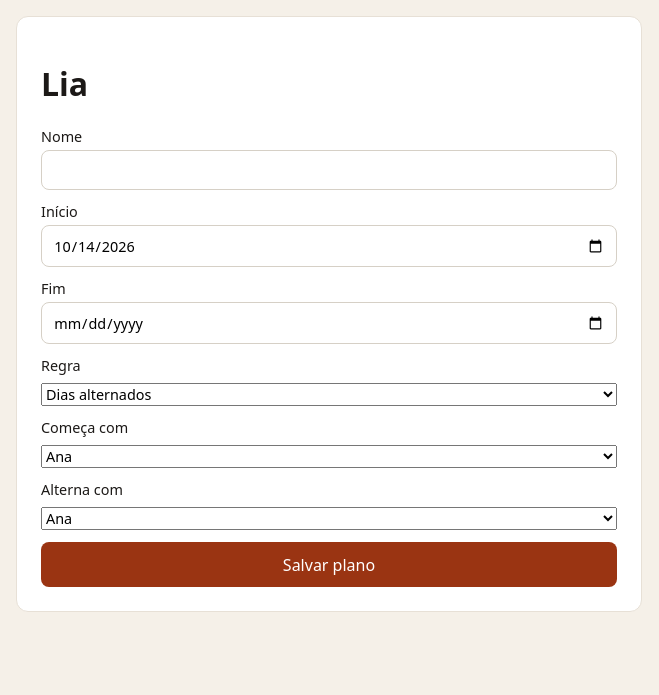
Test: does not send a plan that ends before it starts
The width and height of the screenshot is (659, 695).
Type "Curto" into the field labelled "Nome". click: (329, 170)
box: [41,150,617,190]
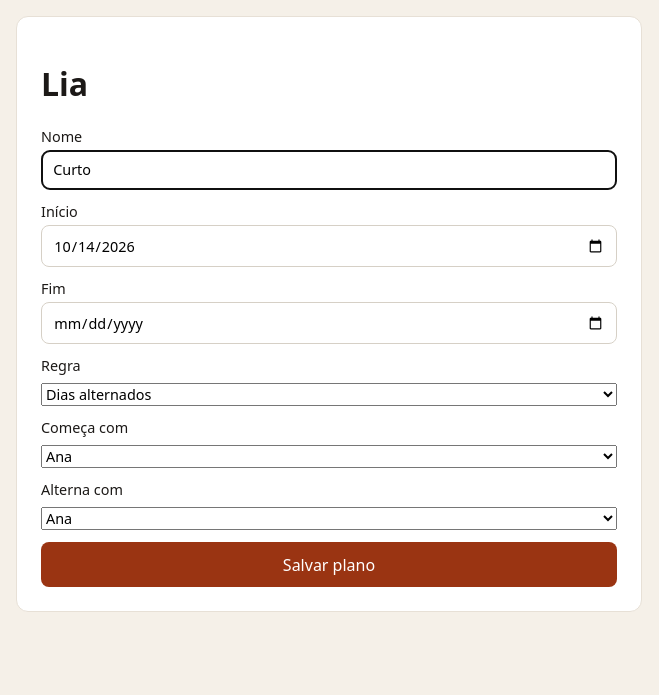
Type "2026-10-20" into the date field labelled "Início". click: (329, 246)
box: [41,225,617,267]
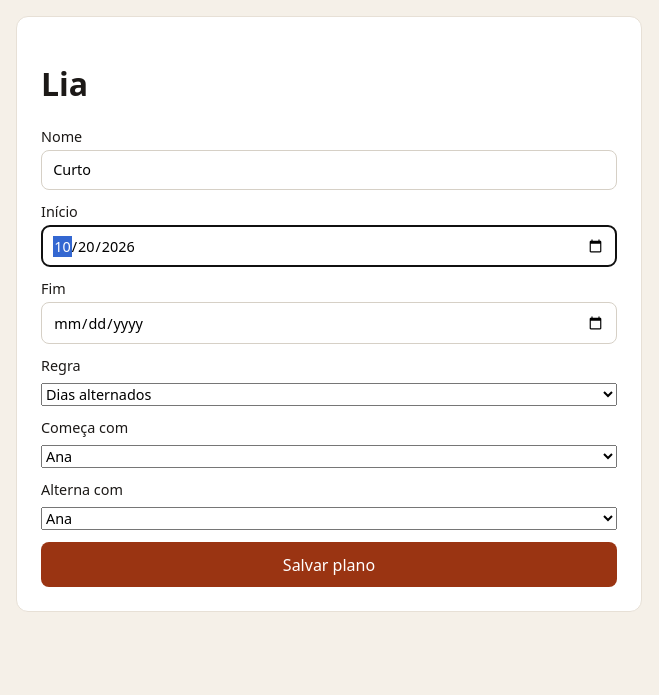
Type "2026-10-01" into the date field labelled "Fim". click: (329, 323)
box: [41,302,617,344]
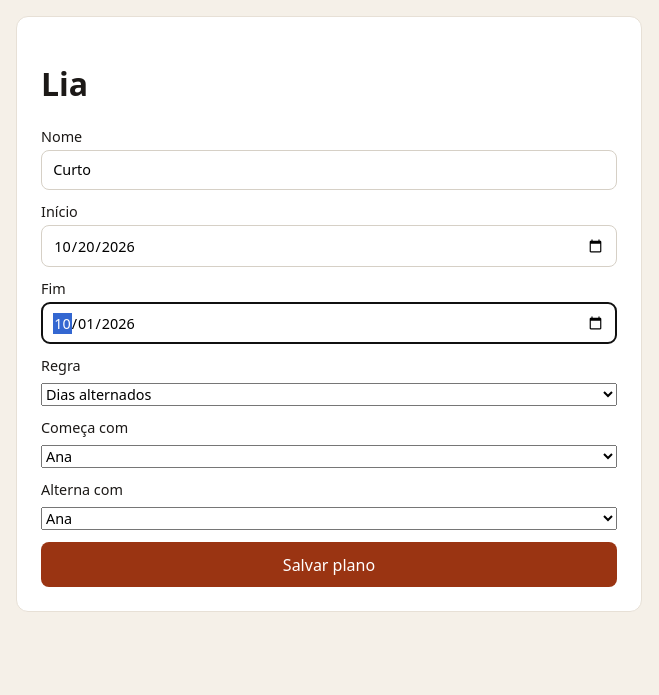
Click the button "Salvar plano". click: (329, 565)
box: [41,542,617,587]
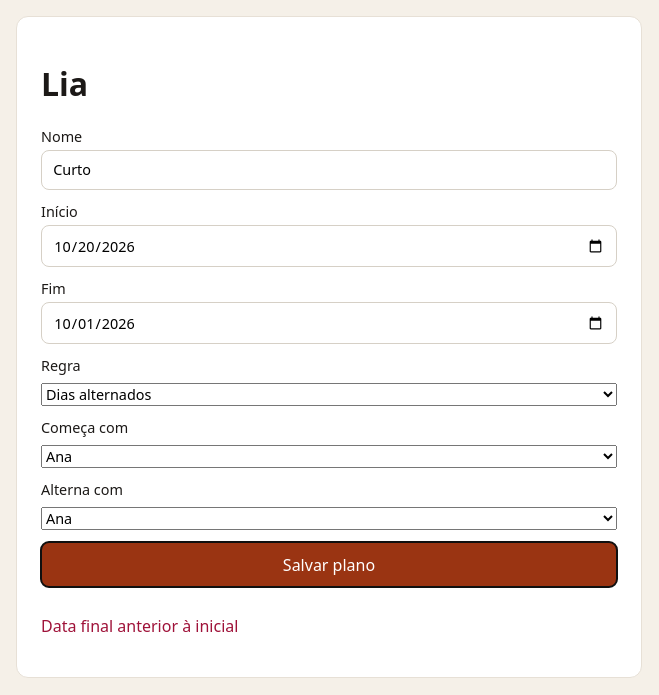
Result: the text "Data final anterior à inicial" is shown at [41,615,238,637]
